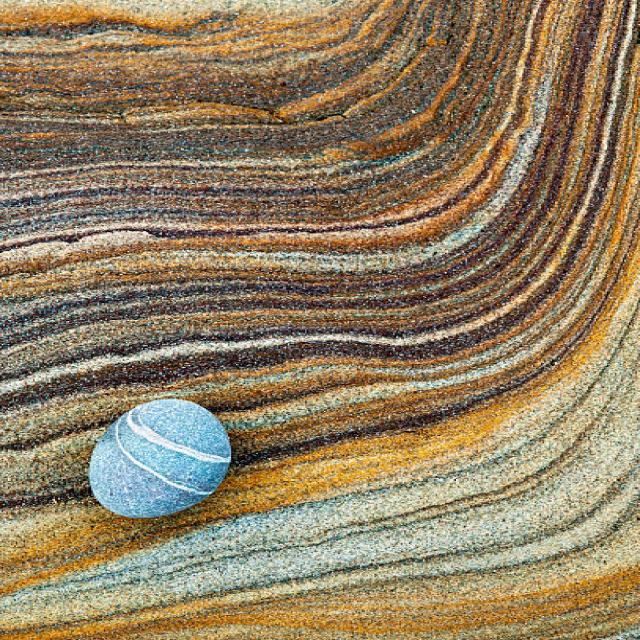Sedimentary: (80, 395, 253, 525)
